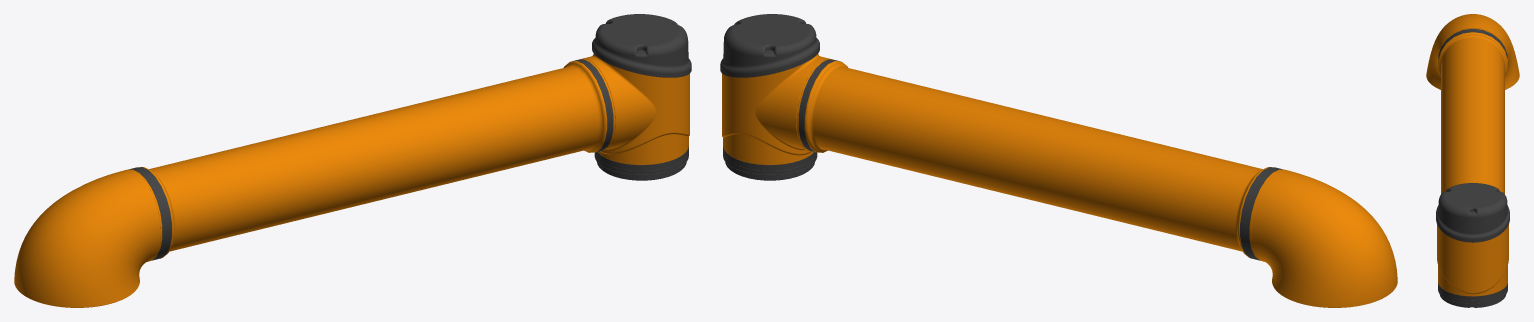
3 views of the same model, side by side, from view 1: azimuth 30°, elevation 25°; view 2: azimuth 150°, elevation 25°; view 3: azimuth 270°, elevation 25° (orthographic). The views are drawn at different scales.
Visible parts, largest first — view 1: i10-FBXASC195FBXASC144FBXASC194FBXASC161FBXASC194FBXASC177FB, FBXASC195FBXASC137FBXASC194FBXASC190FBXASC194FBXASC179FBXASC, FBXASC195FBXASC135FBXASC195FBXASC144FBXASC194FBXASC179FBXASC; view 2: i10-FBXASC195FBXASC144FBXASC194FBXASC161FBXASC194FBXASC177FB, FBXASC195FBXASC137FBXASC194FBXASC190FBXASC194FBXASC179FBXASC, FBXASC195FBXASC135FBXASC195FBXASC144FBXASC194FBXASC179FBXASC; view 3: i10-FBXASC195FBXASC144FBXASC194FBXASC161FBXASC194FBXASC177FB, FBXASC195FBXASC135FBXASC195FBXASC144FBXASC194FBXASC179FBXASC, FBXASC195FBXASC137FBXASC194FBXASC190FBXASC194FBXASC179FBXASC.
Part boxes in pixels (x1,y1,x2,y2): i10-FBXASC195FBXASC144FBXASC194FBXASC161FBXASC194FBXASC177FB: (128, 59, 615, 260); FBXASC195FBXASC137FBXASC194FBXASC190FBXASC194FBXASC179FBXASC: (14, 169, 160, 307); FBXASC195FBXASC135FBXASC195FBXASC144FBXASC194FBXASC179FBXASC: (582, 14, 691, 180); i10-FBXASC195FBXASC144FBXASC194FBXASC161FBXASC194FBXASC177FB: (796, 59, 1283, 260); FBXASC195FBXASC137FBXASC194FBXASC190FBXASC194FBXASC179FBXASC: (1251, 169, 1397, 307); FBXASC195FBXASC135FBXASC195FBXASC144FBXASC194FBXASC179FBXASC: (720, 14, 829, 180); i10-FBXASC195FBXASC144FBXASC194FBXASC161FBXASC194FBXASC177FB: (1438, 28, 1507, 193); FBXASC195FBXASC135FBXASC195FBXASC144FBXASC194FBXASC179FBXASC: (1436, 183, 1509, 307); FBXASC195FBXASC137FBXASC194FBXASC190FBXASC194FBXASC179FBXASC: (1426, 14, 1519, 89).
Size of the model in its own units: 0.7045 by 0.1159 by 0.1365.
